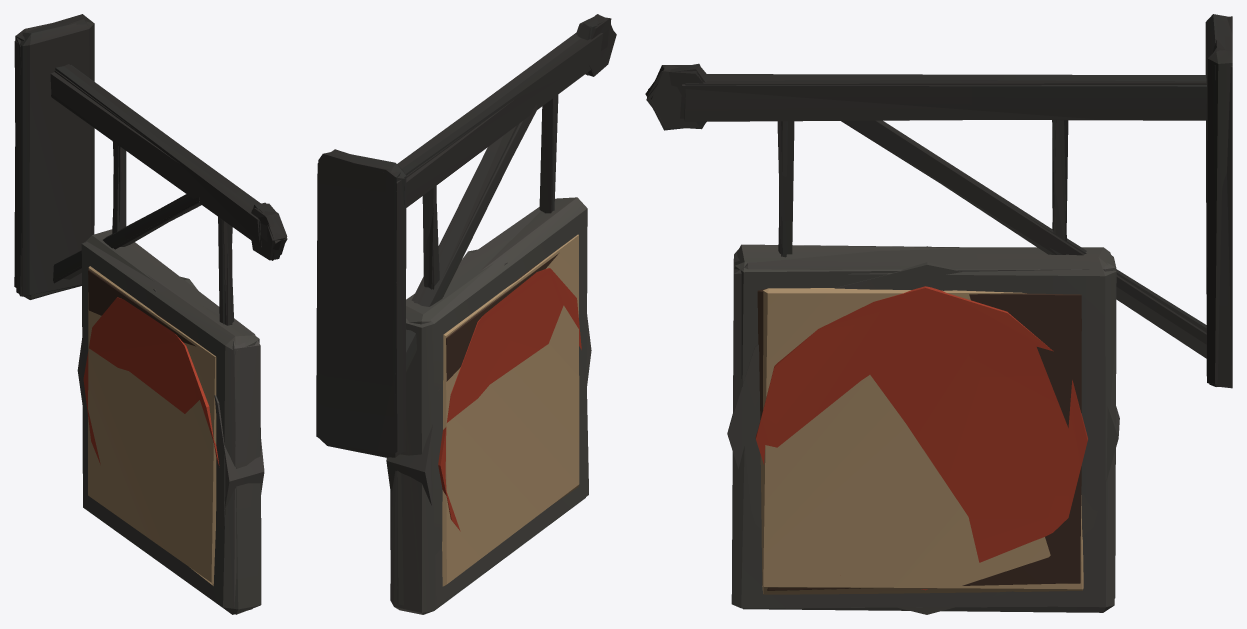
Rendered from sign.hanging.glb.
3 renders of one model, left to right at view 1: azimuth 30°, elevation 25°; view 2: azimuth 150°, elevation 25°; view 3: azimuth 270°, elevation 25°, orthographic. The views are drawn at different scales.
Parts seen in each view (by area): view 1: sign.hanging.v0.mesh, sign.hanging.v2.mesh, sign.hanging.v1.mesh; view 2: sign.hanging.v0.mesh, sign.hanging.v2.mesh, sign.hanging.v1.mesh; view 3: sign.hanging.v2.mesh, sign.hanging.v1.mesh, sign.hanging.v0.mesh.
Boxes of the visible parts, bbox=[...] form: sign.hanging.v0.mesh: bbox=[15, 17, 287, 614]; sign.hanging.v2.mesh: bbox=[14, 14, 287, 614]; sign.hanging.v1.mesh: bbox=[14, 23, 285, 510]; sign.hanging.v0.mesh: bbox=[316, 17, 611, 614]; sign.hanging.v2.mesh: bbox=[318, 14, 612, 606]; sign.hanging.v1.mesh: bbox=[319, 14, 616, 531]; sign.hanging.v2.mesh: bbox=[645, 14, 1232, 608]; sign.hanging.v1.mesh: bbox=[647, 16, 1232, 614]; sign.hanging.v0.mesh: bbox=[646, 16, 1232, 612].
Bounding box in the file's own units: 0.1292 × 0.7377 × 0.6831.
